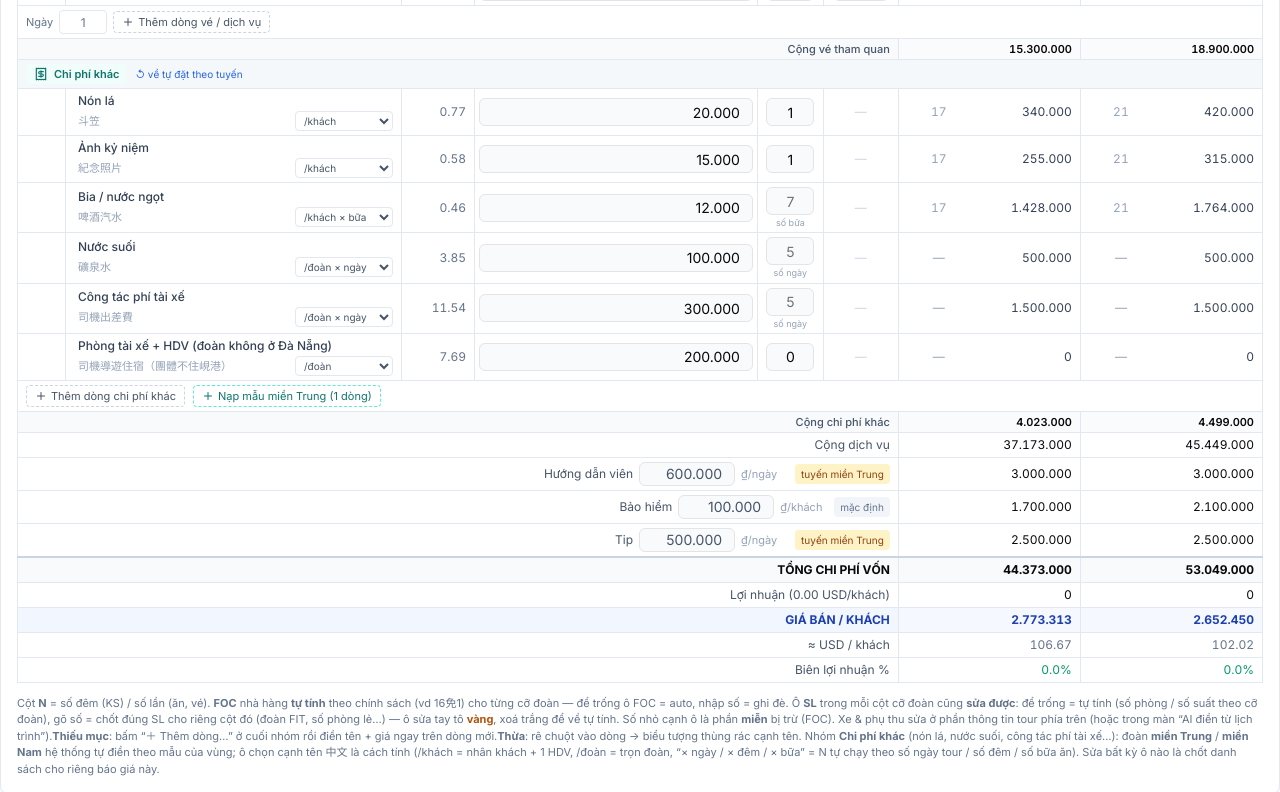
Scenario: Bảng chi phí — nhóm Chi phí khác (bấm thử) › ↺ về tự đặt theo tuyến → bỏ danh sách đã chốt (null), mẫu quay lại
Earlier steps of the test are not shown.
(page scrolled)
Click the button "↺ về tự đặt theo tuyến" at (189, 74), box [136, 66, 243, 82]
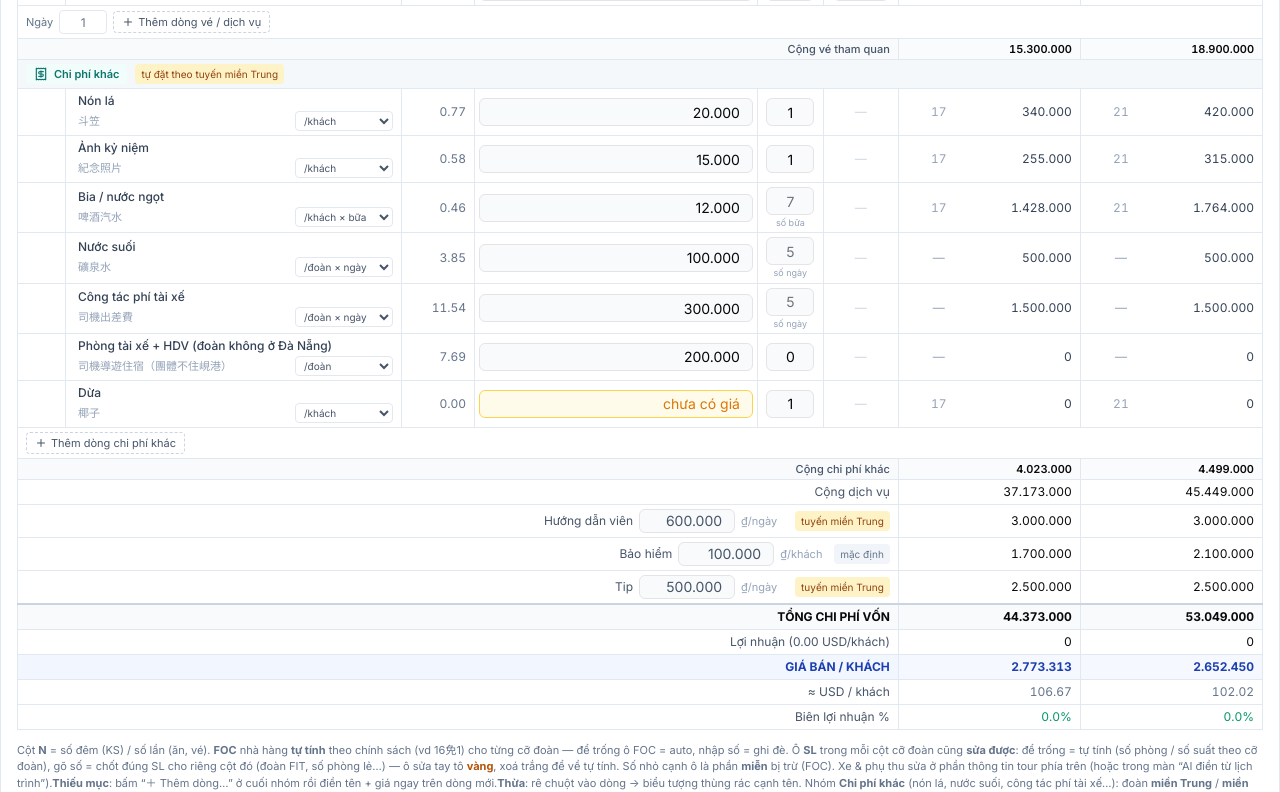
Expected: the text "tự đặt theo tuyến miền Trung" is shown, [136, 64, 284, 84]
